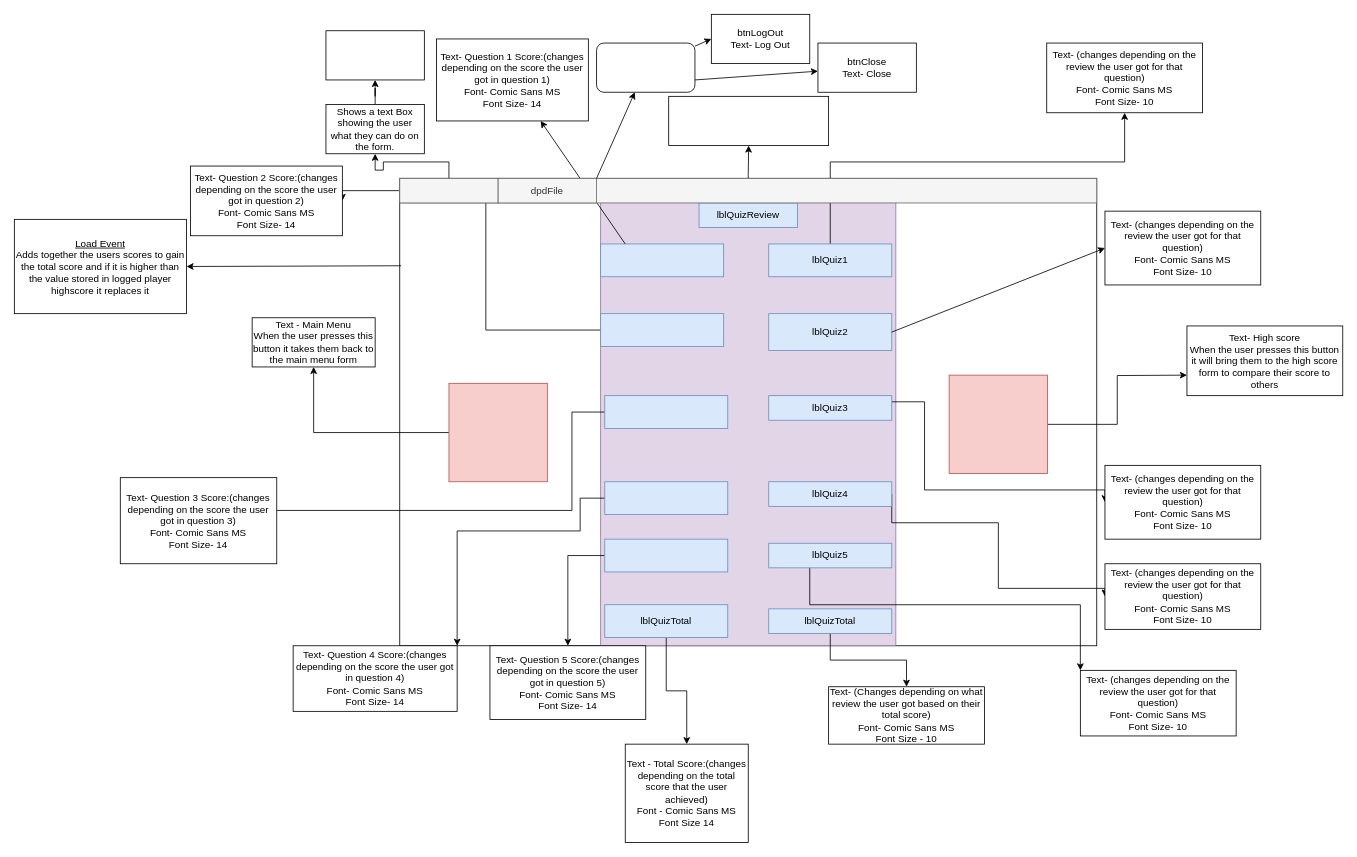
Image size: 1357x857. Some labels were removed from this diagram. The box of each missing label's shape, as (x1, y1, x2, y2) in pixels:
btnHelp: (399, 178, 498, 203)
btnHighScore: (948, 374, 1048, 474)
btnMainMenu: (448, 383, 547, 482)
lblQuestion1Review: (600, 243, 724, 277)
lblQuestion3Result: (604, 395, 728, 428)
lblQuestion4Result: (604, 481, 728, 515)
lblQuestion5Result: (604, 538, 728, 572)
lblQuiestion2Result: (600, 313, 724, 346)
Text - Quiz Review Font - Comic Sans MS Font Size 26: (668, 96, 829, 146)
Text- File contains btnClose and BtnLogOut: (596, 42, 695, 92)
Text- Help Font- Comic Sans MS Font Size- 12: (325, 30, 424, 80)
